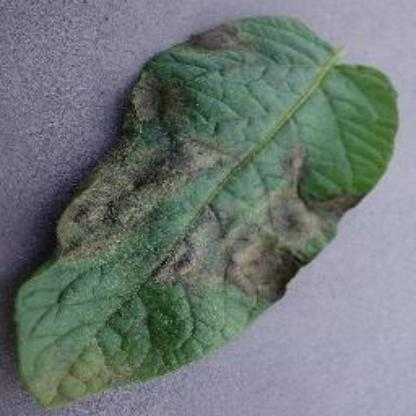Late-Blight: (7, 15, 400, 416)
